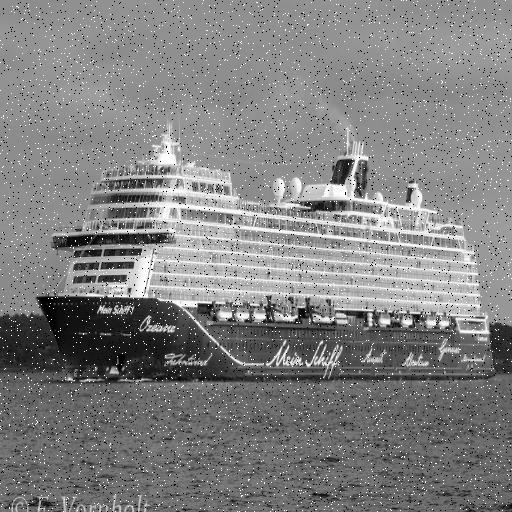cruises: (38, 103, 504, 388)
